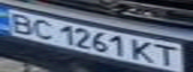1: (106, 33, 130, 58), (51, 21, 75, 46)
2: (69, 25, 93, 51)
6: (90, 29, 112, 54)
B: (3, 11, 39, 35)
C: (27, 16, 57, 40)
K: (127, 37, 157, 64)
T: (151, 43, 184, 69)
